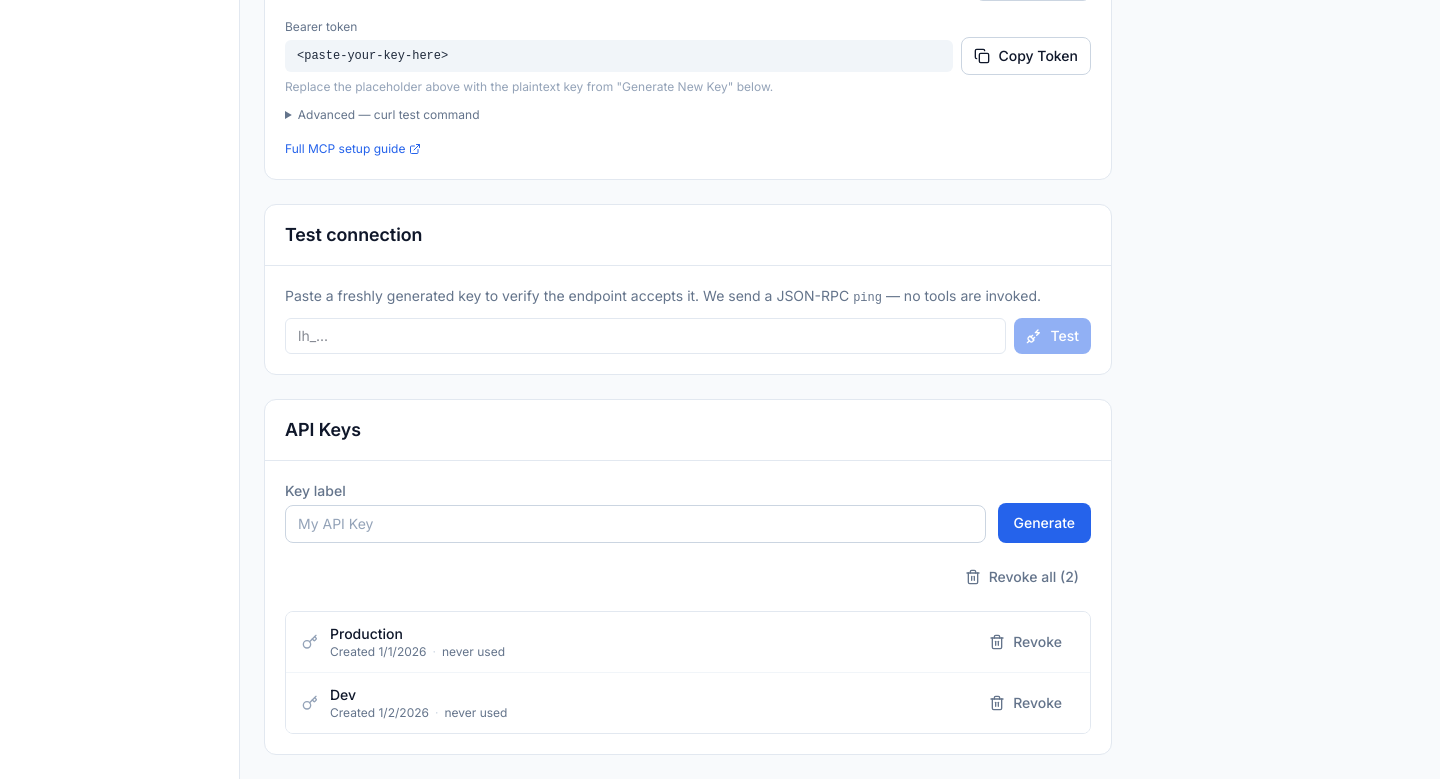
Test: McpSettingsPage revokeMutation — onError rollback (real component) › does NOT restore when the UPDATE succeeds (success-path control)
This screenshot has width=1440, height=779.
(page scrolled)
Expected: the text "Production" is shown, 330,625 -> 403,642
Click the button "Revoke" in the row of "1/1/2026": (1026, 642) 977,624 -> 1074,660
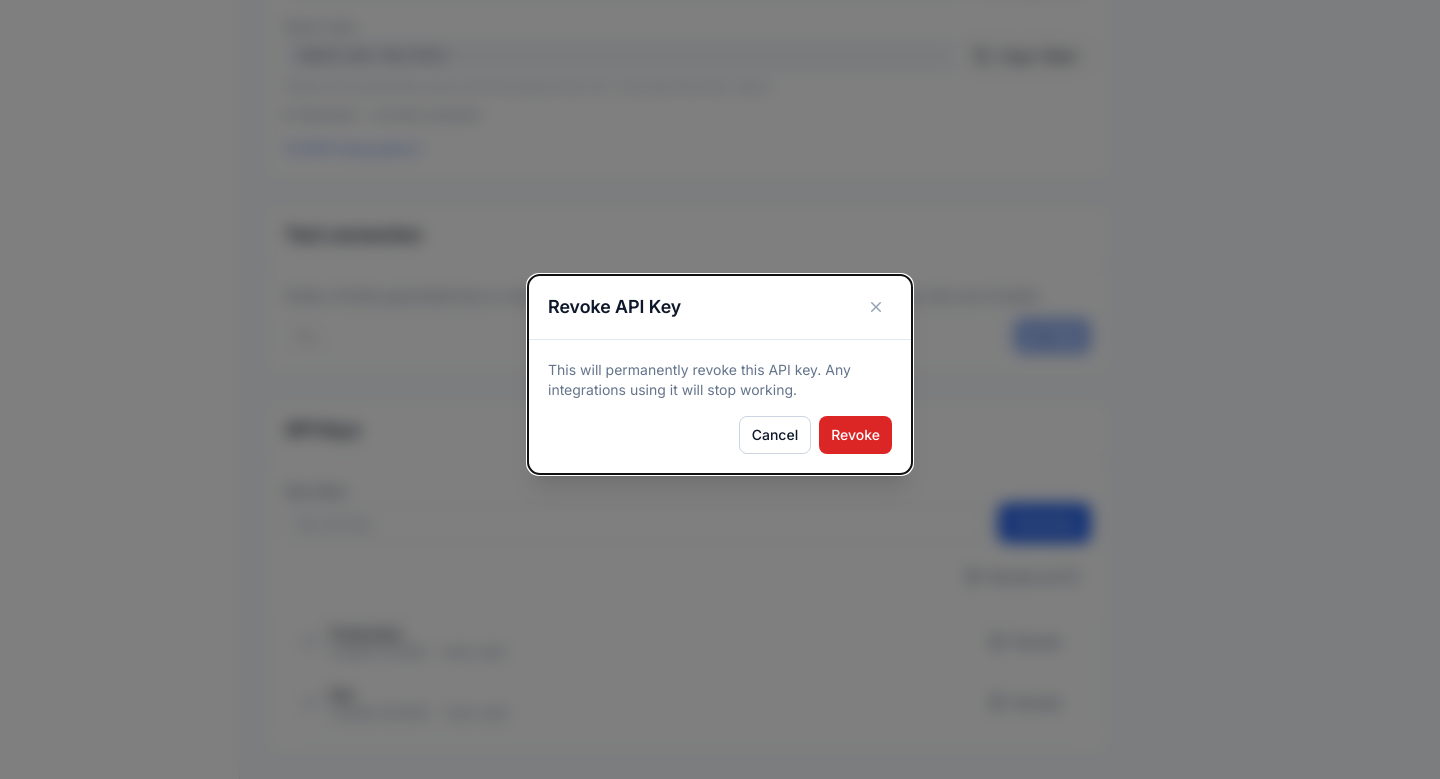
Click the button "Revoke": (856, 434) 819,416 -> 892,454
(page scrolled)
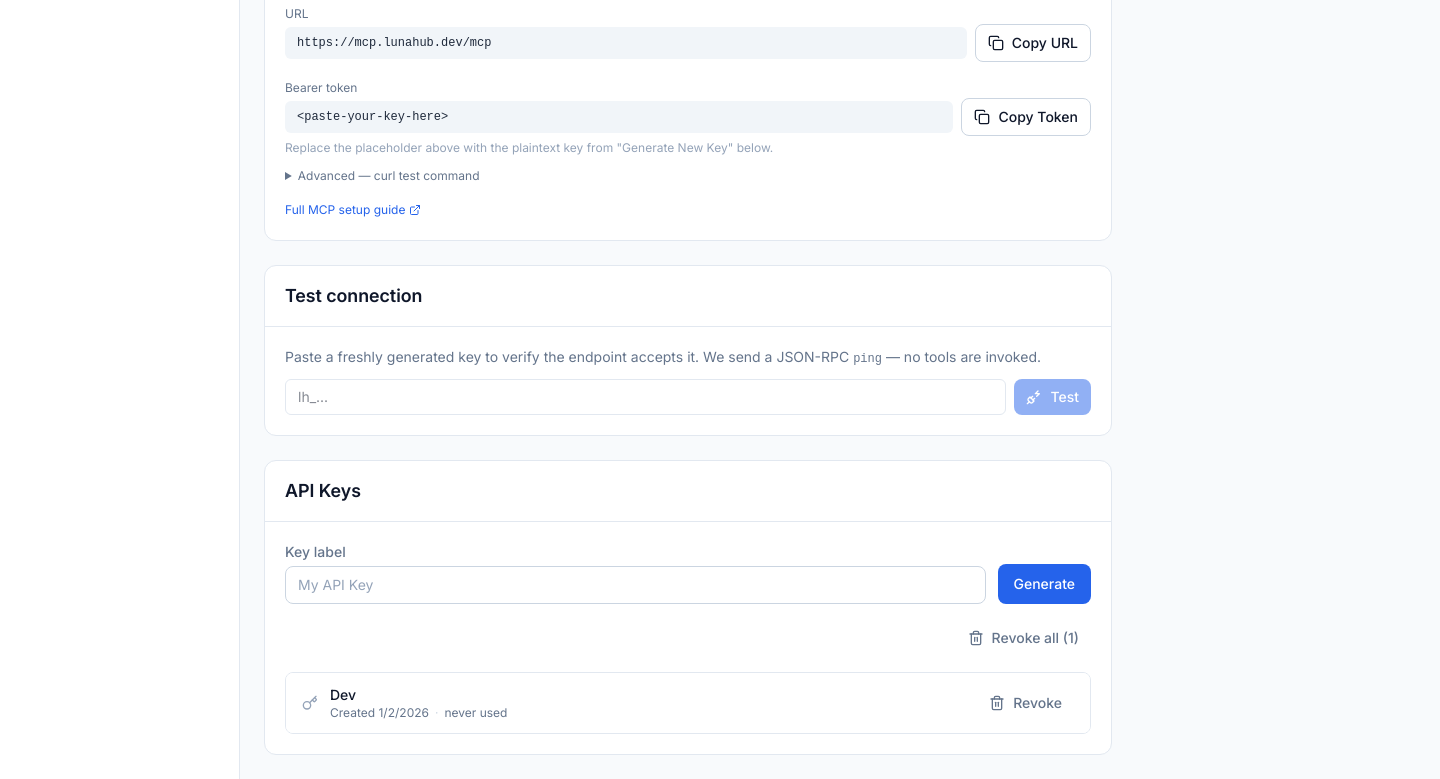
Expected: the text "Dev" is shown, 330,686 -> 356,703
Result: the text "Production" is gone
